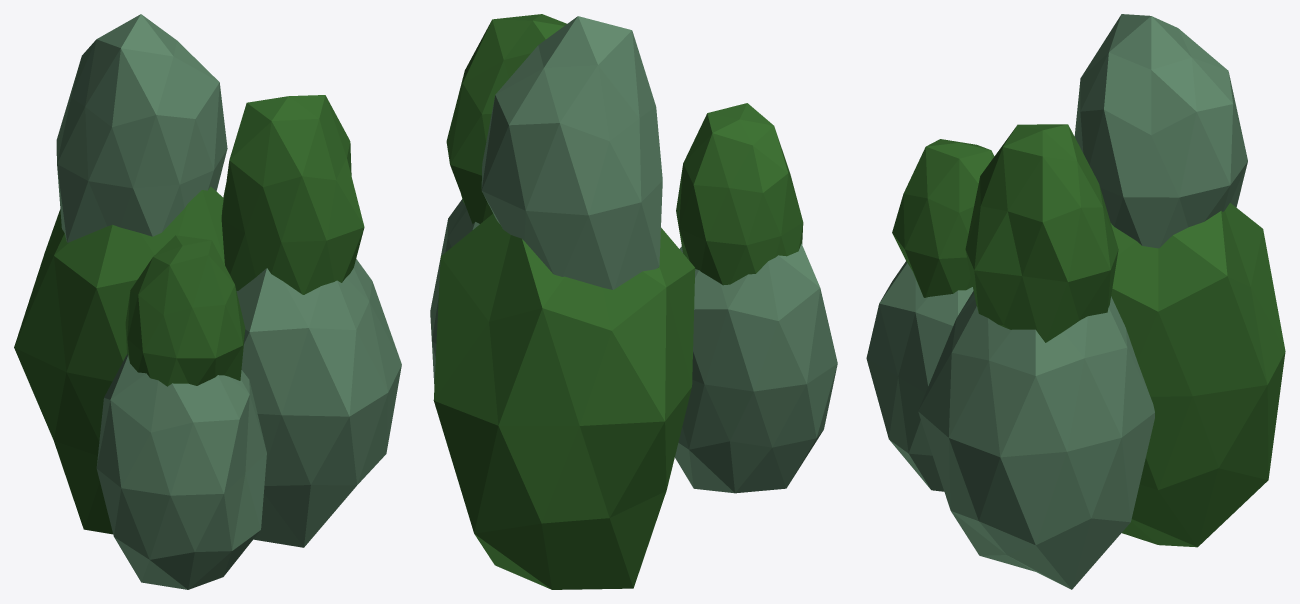
File: HS_LP_Tree_Juniper_01.fbx
3 views of the same model, side by side, from view 1: azimuth 30°, elevation 25°; view 2: azimuth 150°, elevation 25°; view 3: azimuth 270°, elevation 25° (orthographic). The views are drawn at different scales.
Parts seen in each view (by area): view 1: HS_LP_Tree_Juniper_01; view 2: HS_LP_Tree_Juniper_01; view 3: HS_LP_Tree_Juniper_01.
Boxes of the visible parts, box(x1,y1,x2,y2) form: HS_LP_Tree_Juniper_01: box(14, 14, 401, 589); HS_LP_Tree_Juniper_01: box(430, 14, 837, 589); HS_LP_Tree_Juniper_01: box(866, 14, 1285, 589).
Bounding box in the file's own units: 169 × 264 × 191.
